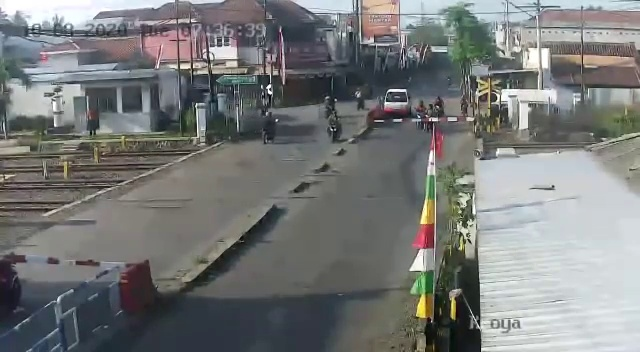car: (384, 87, 412, 119)
motorbike: (260, 110, 278, 147), (328, 109, 341, 141), (415, 98, 425, 132), (355, 88, 367, 112), (325, 93, 336, 118), (433, 94, 444, 117)
